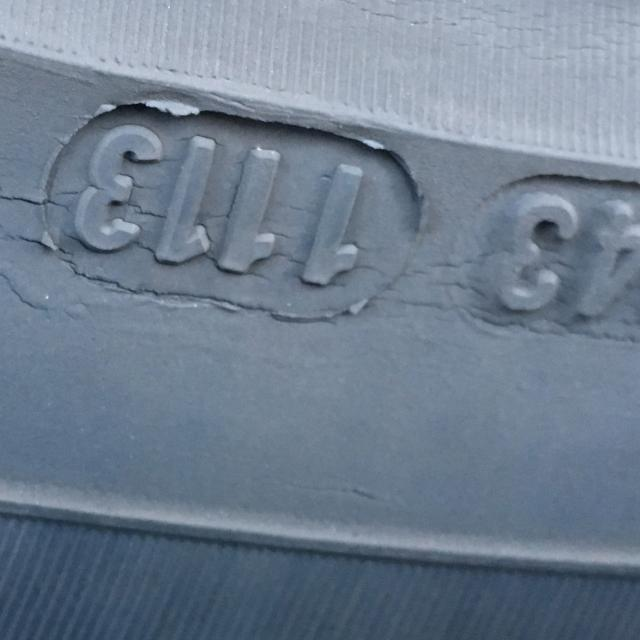Cracks: (0, 113, 640, 373)
